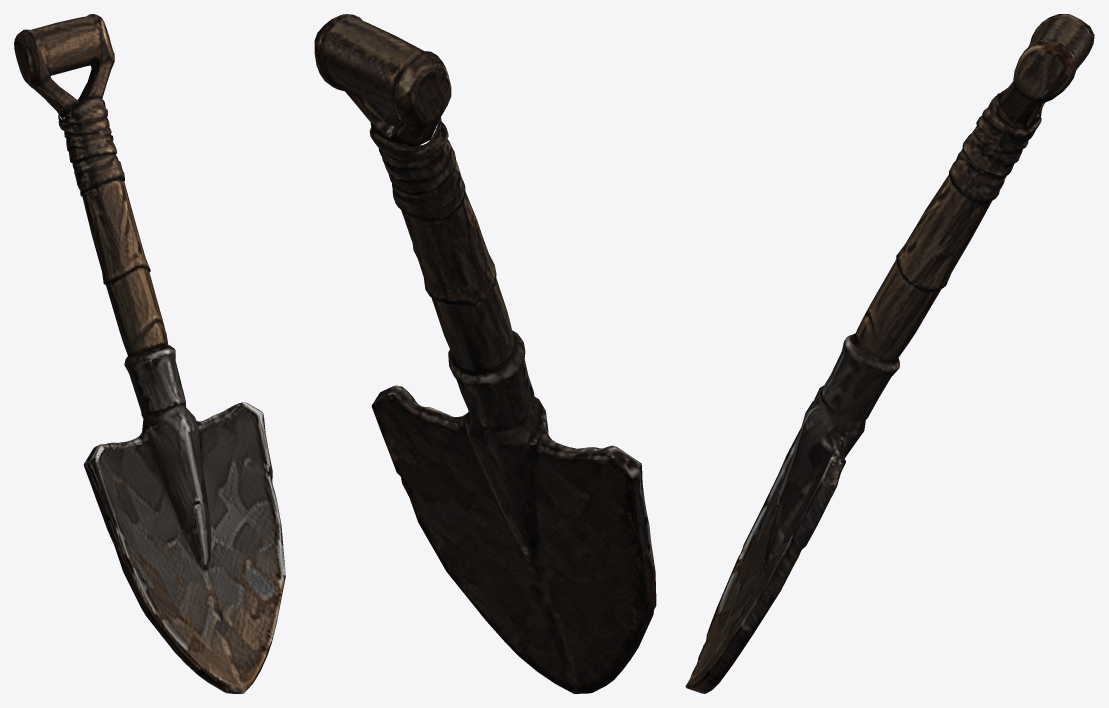
File: F01_body_snatcher_spade.glb
3 renders of one model, left to right at view 1: azimuth 30°, elevation 25°; view 2: azimuth 150°, elevation 25°; view 3: azimuth 270°, elevation 25°, orthographic. The views are drawn at different scales.
Visible parts, largest first — view 1: tripo_19f7cf9a_10b5_4cb8_878c_71cea9ac721d; view 2: tripo_19f7cf9a_10b5_4cb8_878c_71cea9ac721d; view 3: tripo_19f7cf9a_10b5_4cb8_878c_71cea9ac721d.
Boxes of the visible parts, bbox=[...] form: tripo_19f7cf9a_10b5_4cb8_878c_71cea9ac721d: bbox=[14, 14, 285, 693]; tripo_19f7cf9a_10b5_4cb8_878c_71cea9ac721d: bbox=[314, 14, 656, 693]; tripo_19f7cf9a_10b5_4cb8_878c_71cea9ac721d: bbox=[685, 14, 1094, 693].
Size of the model in its own units: 0.3267 by 0.9995 by 0.564.
1 material, 1 textured.
